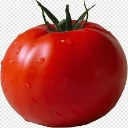tomato: (1, 20, 128, 127)
